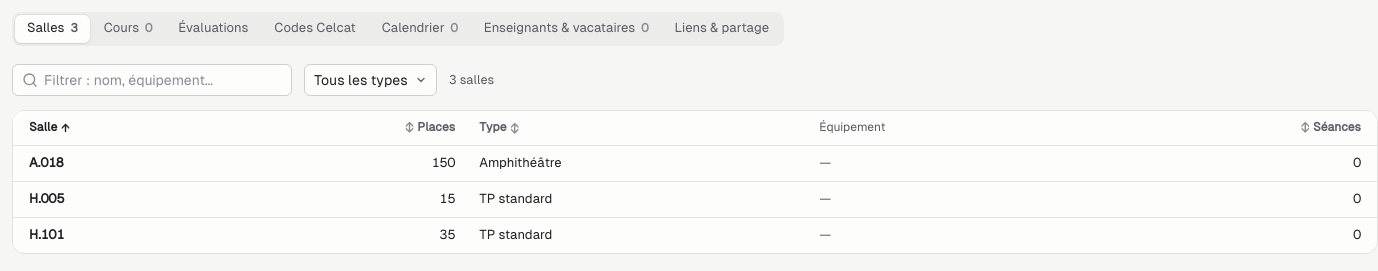
Scenario: ReferenceView — onglets, filtres et tri › should sort rooms by capacity when the column header is clicked twice
The image size is (1378, 271).
Step 1. Click the button "Places ↕" → (430, 128), box [405,119,455,136]
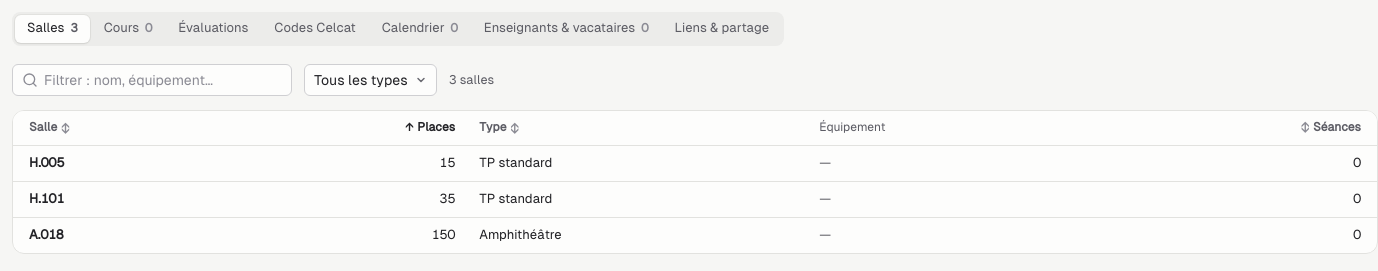
Step 2. Click the button "Places ↑" → (430, 128), box [405,119,455,136]
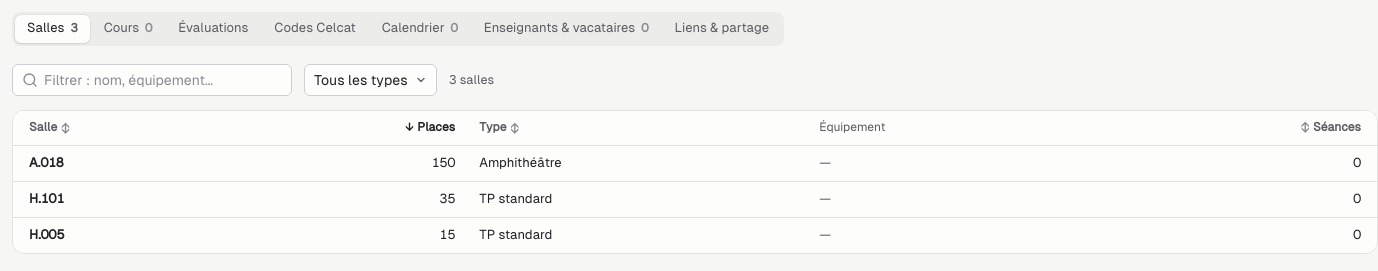
Check: the elements titled "Ouvrir la Vue Salle" read "A.018", "H.101", "H.005", in this order, box [29,154,64,172]; [29,190,64,208]; [29,226,64,245]
